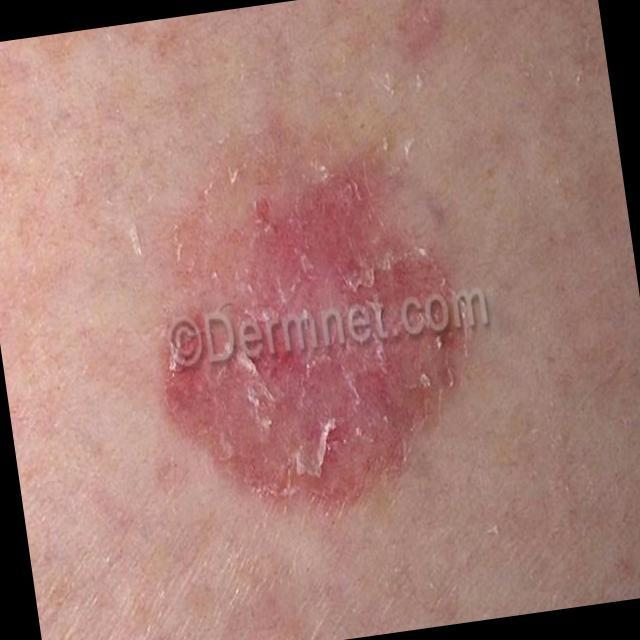Eczema: (155, 154, 467, 494)
